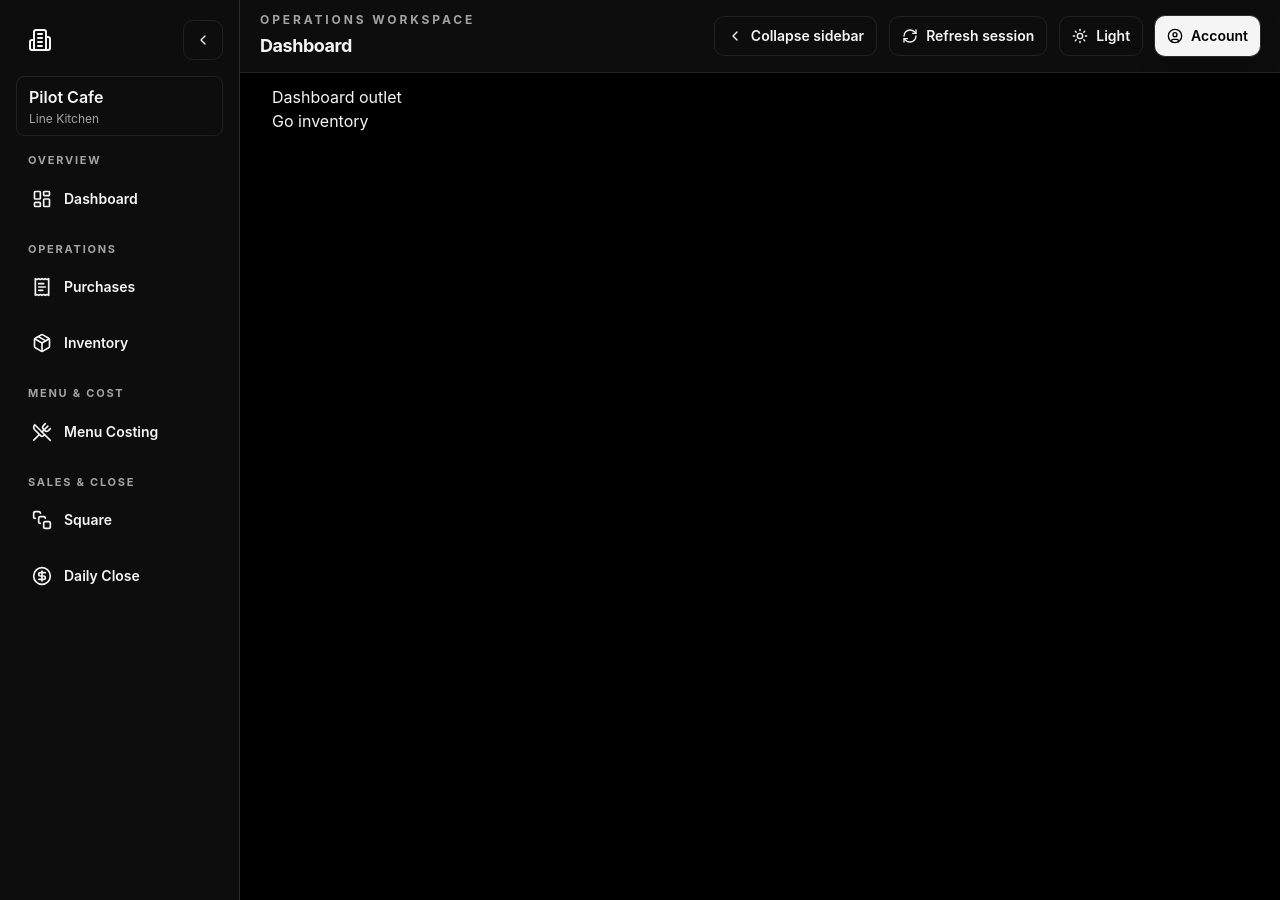
Test: PilotWorkspaceLayout › defaults to dark theme and persists an accessible light-theme toggle
The width and height of the screenshot is (1280, 900).
Click the button with aria-label "Switch to light theme" at (1101,36), box [1059,16,1143,56]
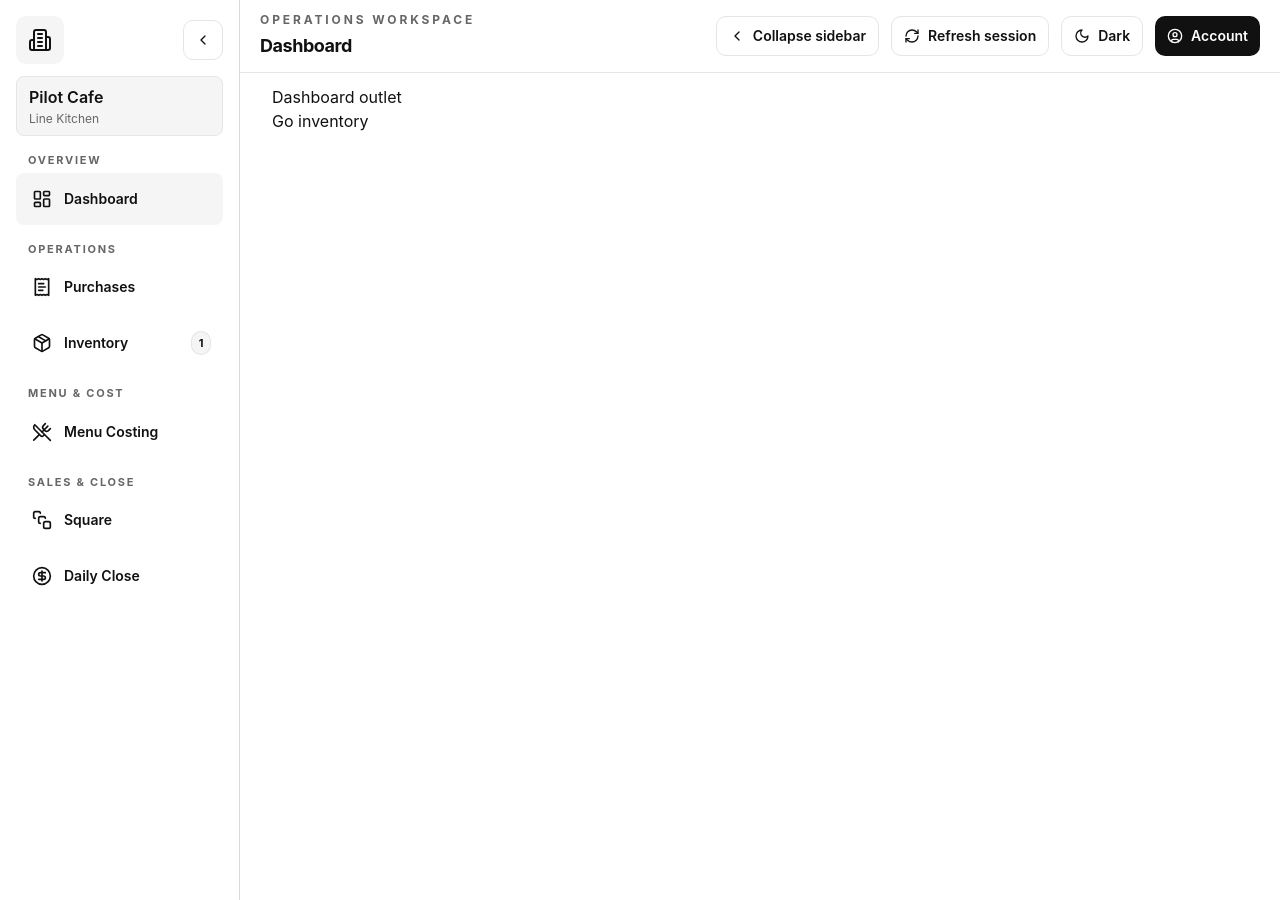
Expected: the button with aria-label "Switch to dark theme" is shown, [1061,16,1143,56]
